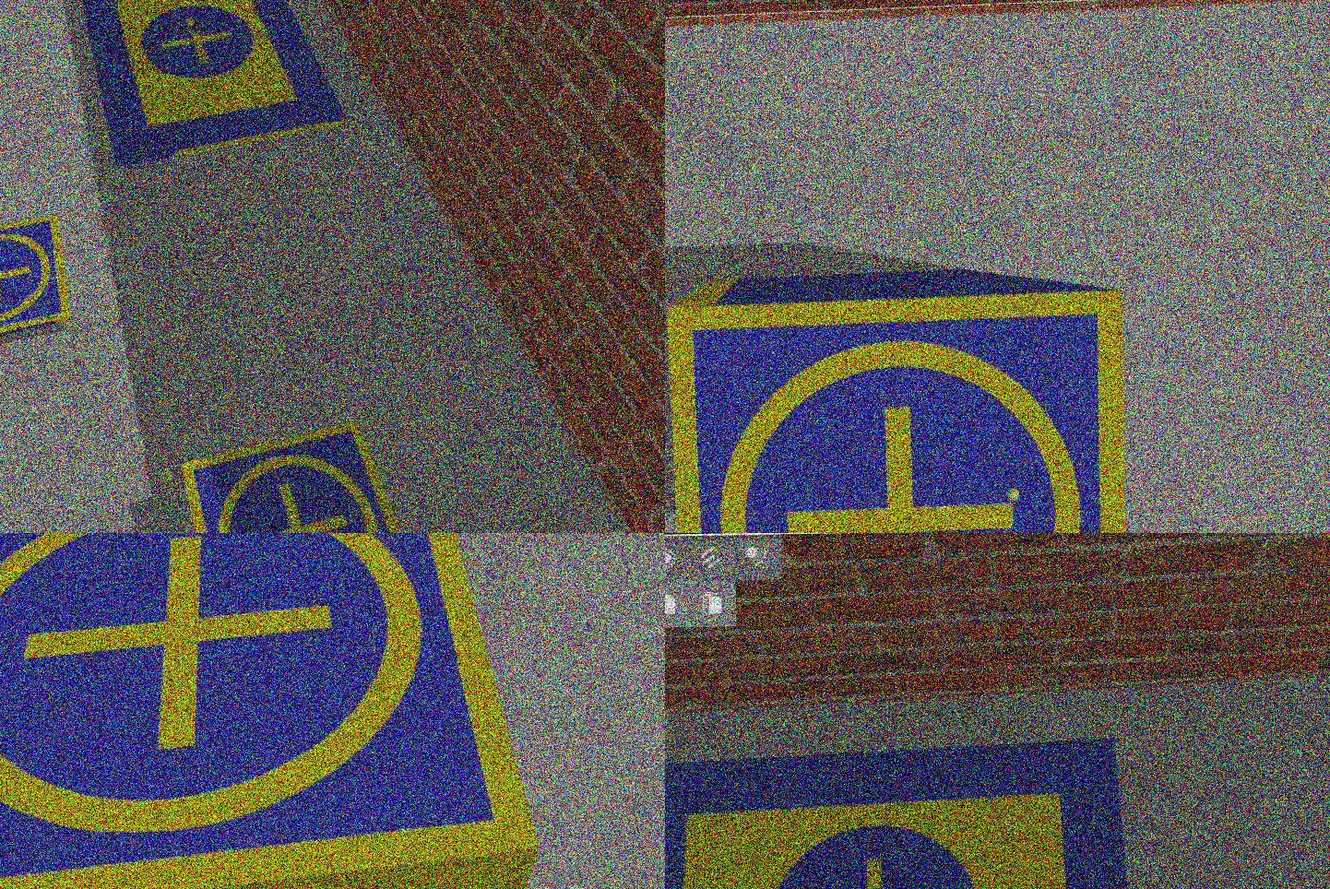large_base: (666, 738, 1150, 889), (75, 1, 344, 171)
small_base: (1, 534, 545, 889), (666, 286, 1126, 534), (179, 422, 433, 534), (1, 217, 69, 350)
